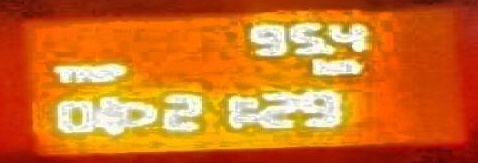-: (322, 44, 337, 54)
0: (51, 97, 93, 132)
1: (224, 93, 242, 132)
2: (158, 91, 200, 132), (257, 89, 295, 128)
4: (326, 21, 368, 51)
5: (286, 20, 324, 54)
9: (297, 88, 342, 125), (246, 22, 286, 56)
X: (240, 94, 258, 124), (331, 58, 362, 74), (73, 63, 95, 83), (51, 63, 71, 84), (109, 62, 129, 83), (309, 57, 329, 76), (97, 63, 106, 84)
